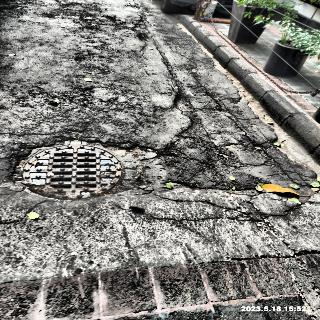alligator-crack: (158, 80, 316, 195), (226, 198, 272, 227)
crack: (9, 136, 159, 200), (154, 212, 222, 225)
